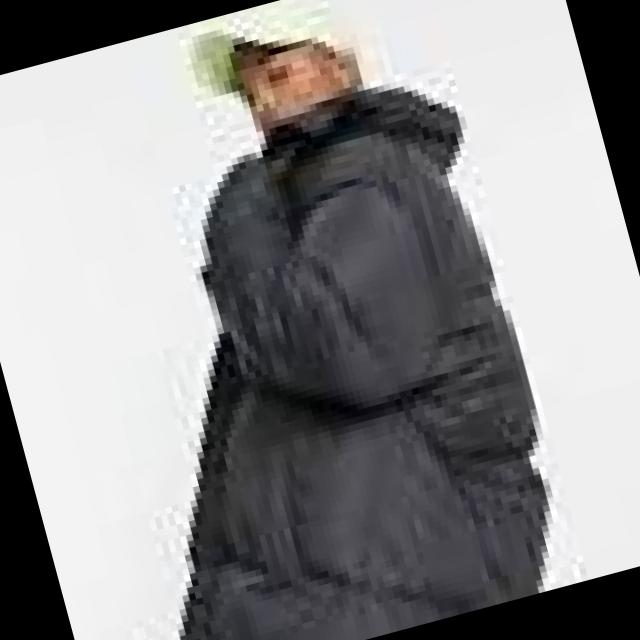Jacket: (123, 9, 640, 640)
